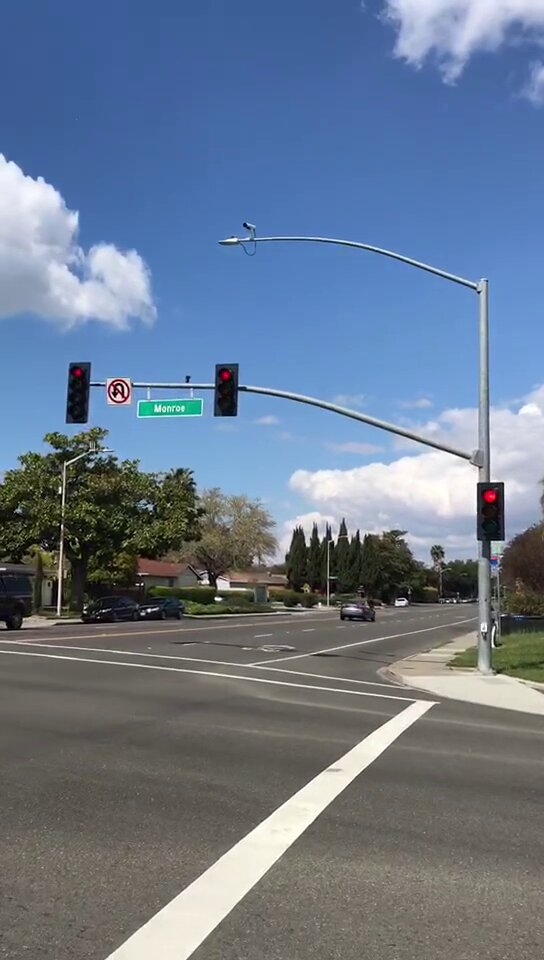red_light: (480, 482, 504, 540), (68, 365, 88, 424), (215, 365, 237, 414)
